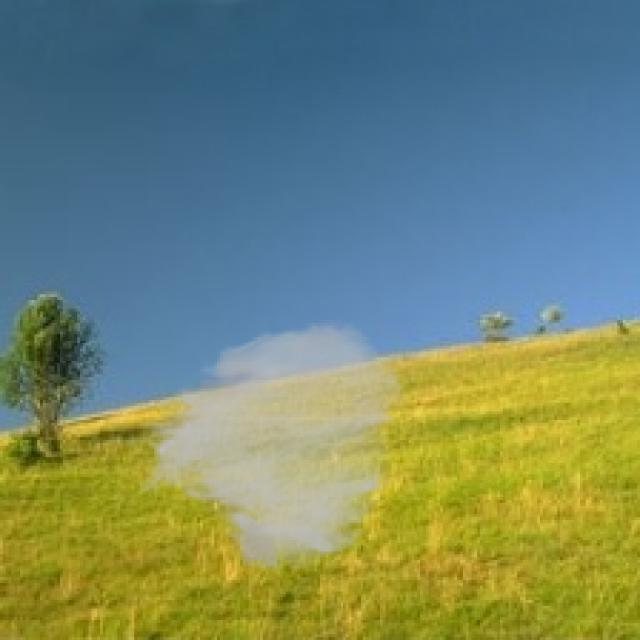Smoke: (134, 320, 409, 574)
